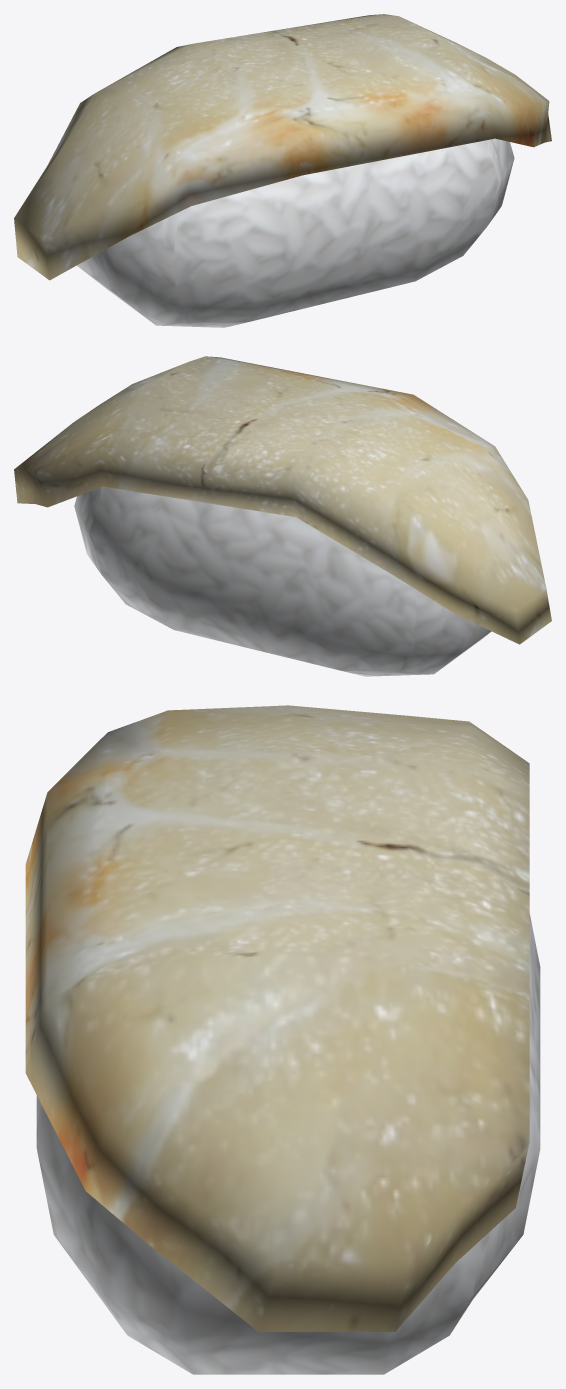
Rendered from sea_bream.fbx.
3 renders of one model, top to bottom at view 1: azimuth 30°, elevation 25°; view 2: azimuth 150°, elevation 25°; view 3: azimuth 270°, elevation 25°, orthographic. The views are drawn at different scales.
Visible parts, largest first — view 1: sea_bream; view 2: sea_bream; view 3: sea_bream.
Boxes of the visible parts, left/top/right/bottom form: sea_bream: left=14, top=14, right=551, bottom=327; sea_bream: left=14, top=356, right=551, bottom=676; sea_bream: left=25, top=705, right=540, bottom=1374.
Size of the model in its own units: 7.17 by 3.13 by 3.2.
